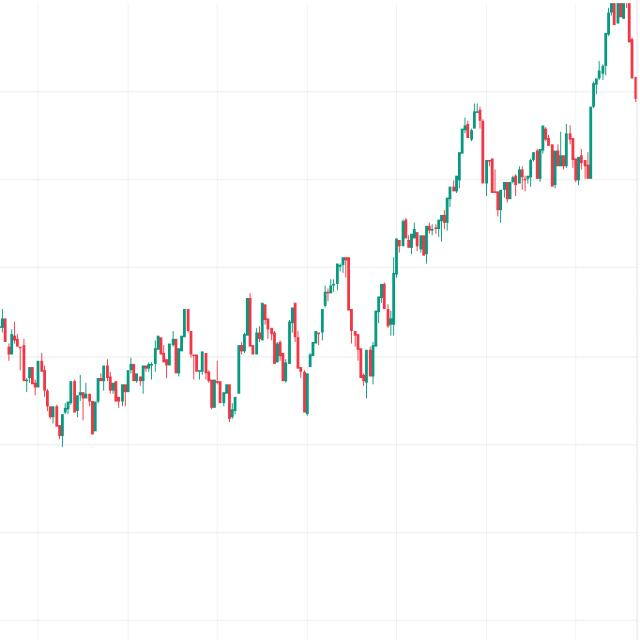Triple-Top: (232, 293, 310, 371)
